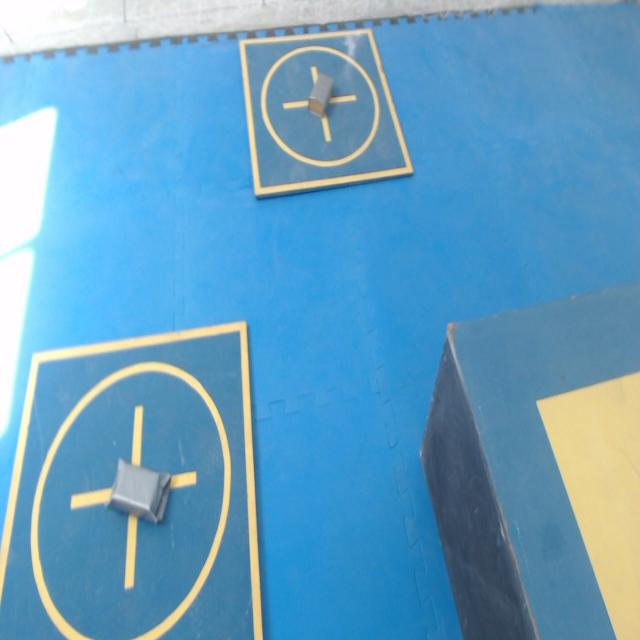lipo: (108, 459, 170, 523), (308, 74, 332, 116)
